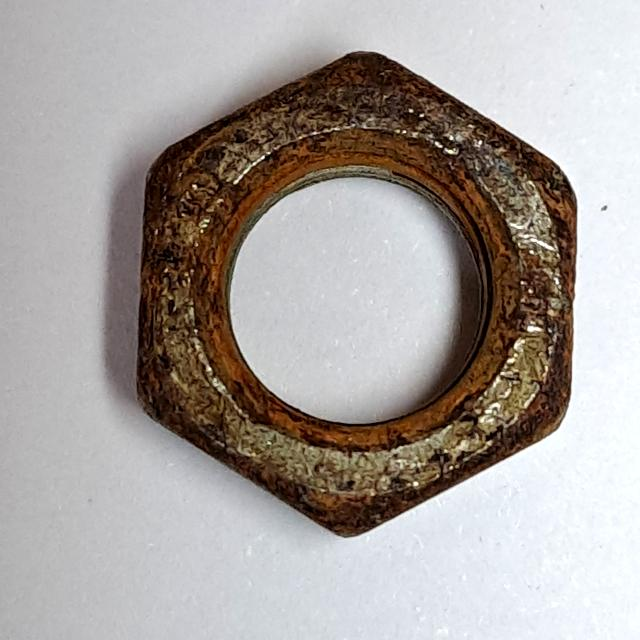Rust: (126, 34, 586, 551)
